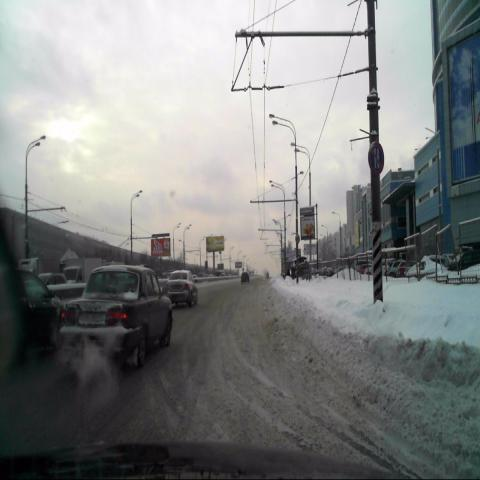3_30: (368, 142, 384, 173)
